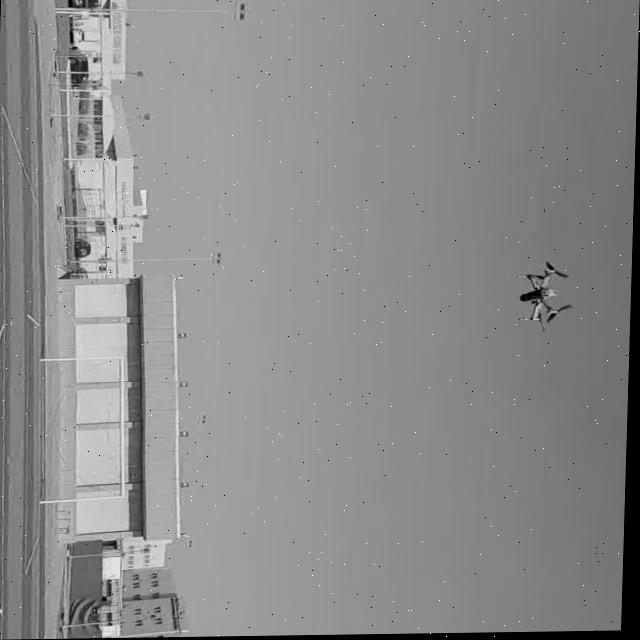drone: (511, 258, 587, 333)
